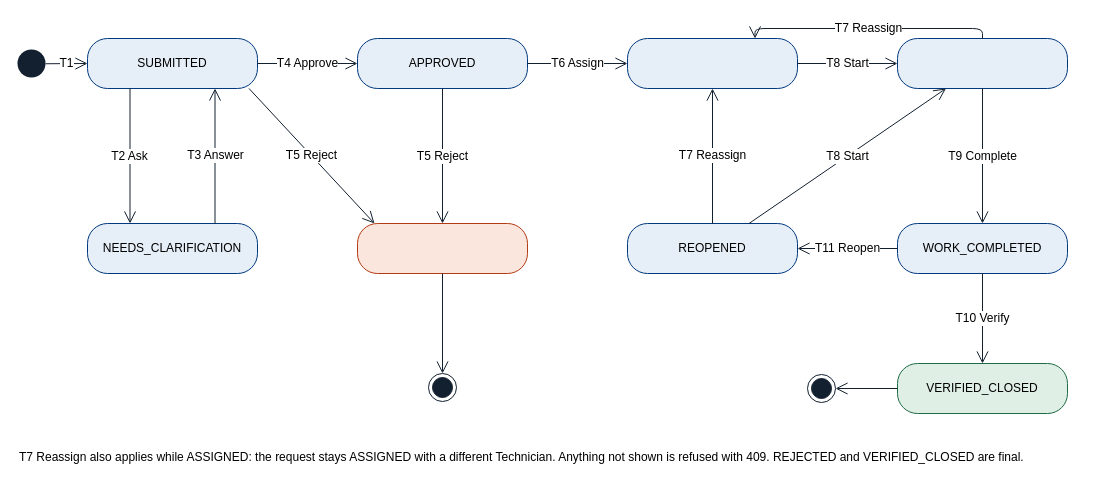
This 1114x489 diagram has some shape labels left out. The centre of each missing label's shape, as x and y in pixels:
ASSIGNED: (x=712, y=63)
IN_PROGRESS: (x=982, y=63)
REJECTED: (x=442, y=248)
